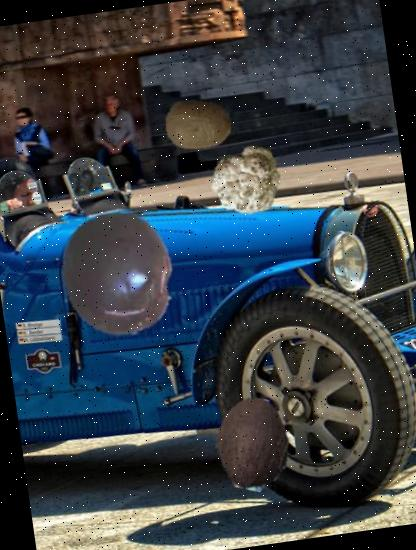Cauliflower: (204, 140, 286, 222)
Cocos: (203, 392, 308, 497)
Kiwi: (160, 86, 235, 162)
Passion: (47, 204, 190, 348)
